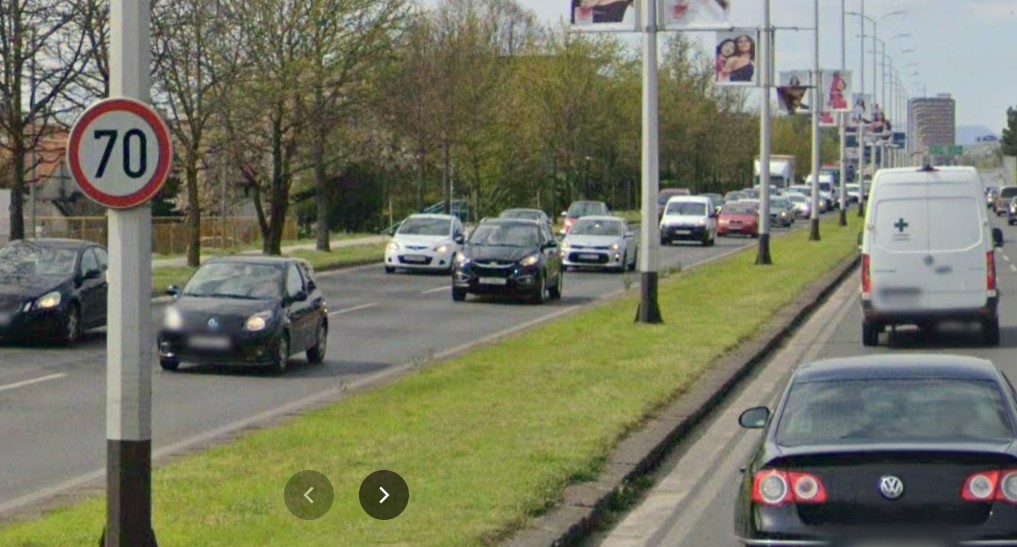Ograničenje brzine 70: (66, 97, 174, 210)
